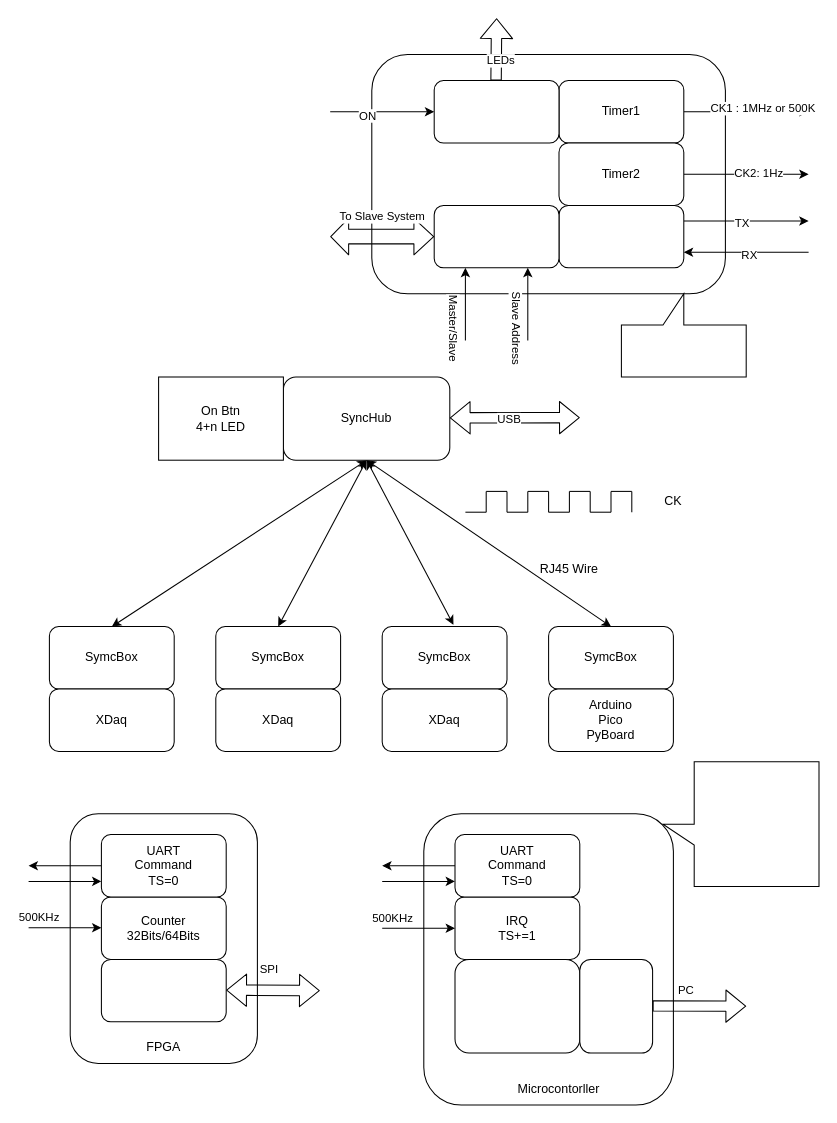
This 837x1123 diagram has some shape labels left out. Here are the shapes that lost their labels. From the top down, the centre of each, then its label:
At pixel 496 111: "GPIO".
At pixel 496 236: "I2C Master".
At pixel 621 236: "UART".
At pixel 683 335: "PyBoard".
At pixel 740 824: "FreeRTOS or Async on MicroPython or C StateMachine (IRQ & DMA)".
At pixel 163 990: "SPI Slave".
At pixel 517 1005: "Event Loop Sampling tag with TS Output based on TS".
At pixel 616 1005: "Data Comm".
